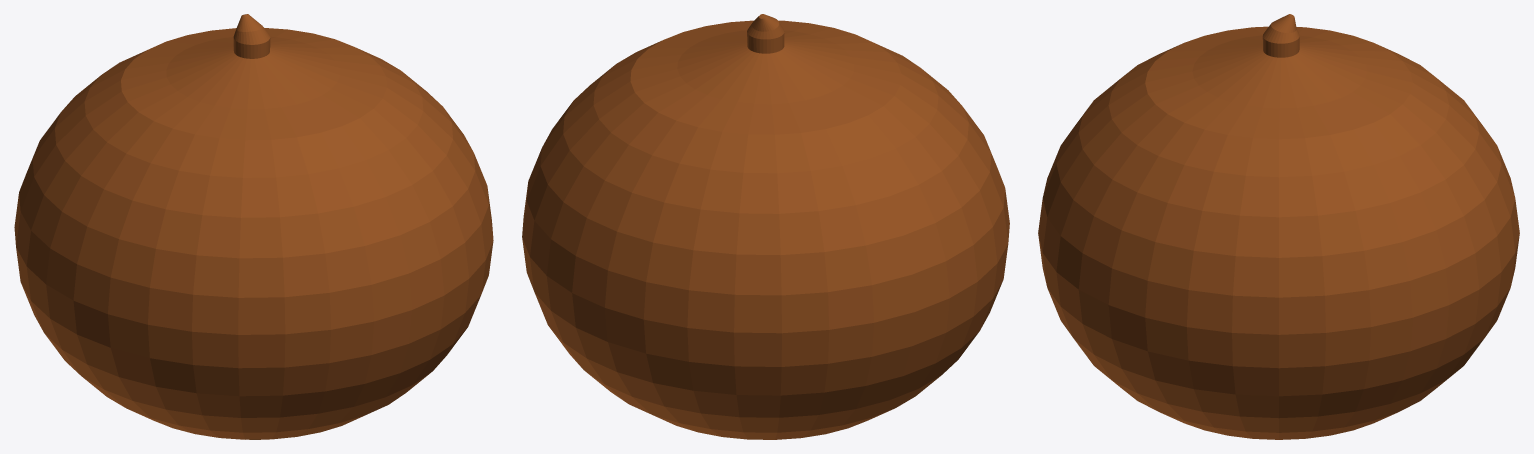
Rendered from bawang.fbx.
3 renders of one model, left to right at view 1: azimuth 30°, elevation 25°; view 2: azimuth 150°, elevation 25°; view 3: azimuth 270°, elevation 25°, orthographic.
Visible parts, largest first — view 1: Sphere; view 2: Sphere; view 3: Sphere.
Part boxes in pixels (<box>): Sphere: <box>14,14,493,439</box>; Sphere: <box>522,14,1009,439</box>; Sphere: <box>1038,14,1519,439</box>.
Size of the model in its own units: 200 by 185 by 200.
